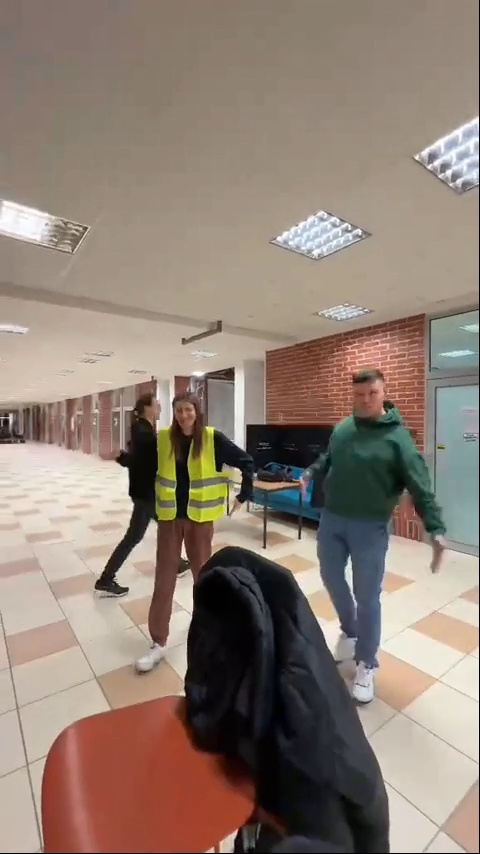no vest: (297, 364, 460, 706), (111, 396, 156, 612)
vest: (156, 392, 259, 676)
